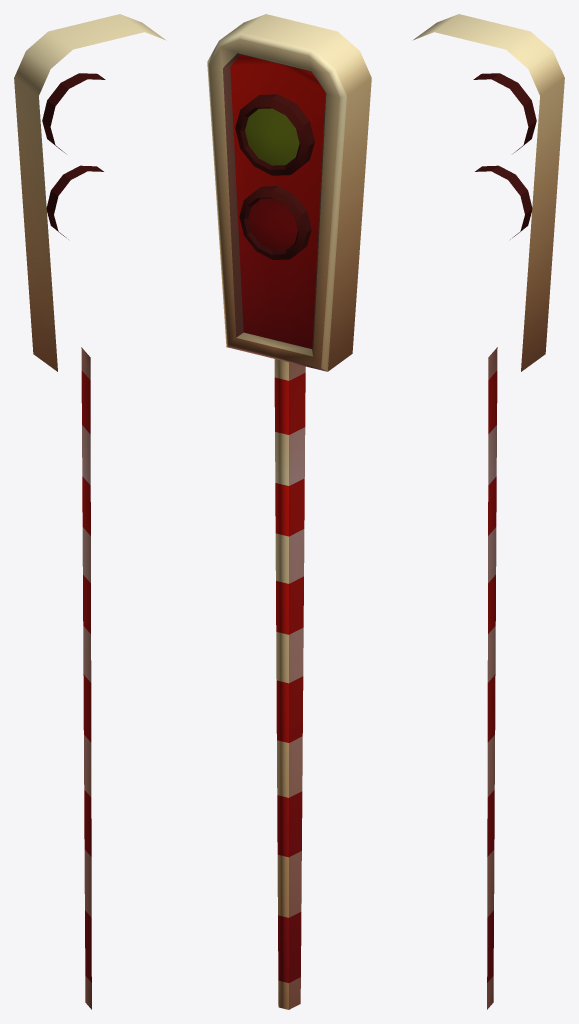
File: 1.100_SanFrancisco_lightSignal.glb
3 renders of one model, left to right at view 1: azimuth 30°, elevation 25°; view 2: azimuth 150°, elevation 25°; view 3: azimuth 330°, elevation 25°, orthographic.
Parts seen in each view (by area): view 1: 1.100_SanFrancisco_lightSignal; view 2: 1.100_SanFrancisco_lightSignal; view 3: 1.100_SanFrancisco_lightSignal.
Boxes of the visible parts, x1=… form: 1.100_SanFrancisco_lightSignal: x1=14, y1=14, x2=166, y2=1009; 1.100_SanFrancisco_lightSignal: x1=207, y1=14, x2=371, y2=1009; 1.100_SanFrancisco_lightSignal: x1=412, y1=14, x2=564, y2=1009.
Size of the model in its own units: 6.53 by 43.38 by 2.55.
1 material, 1 textured.
